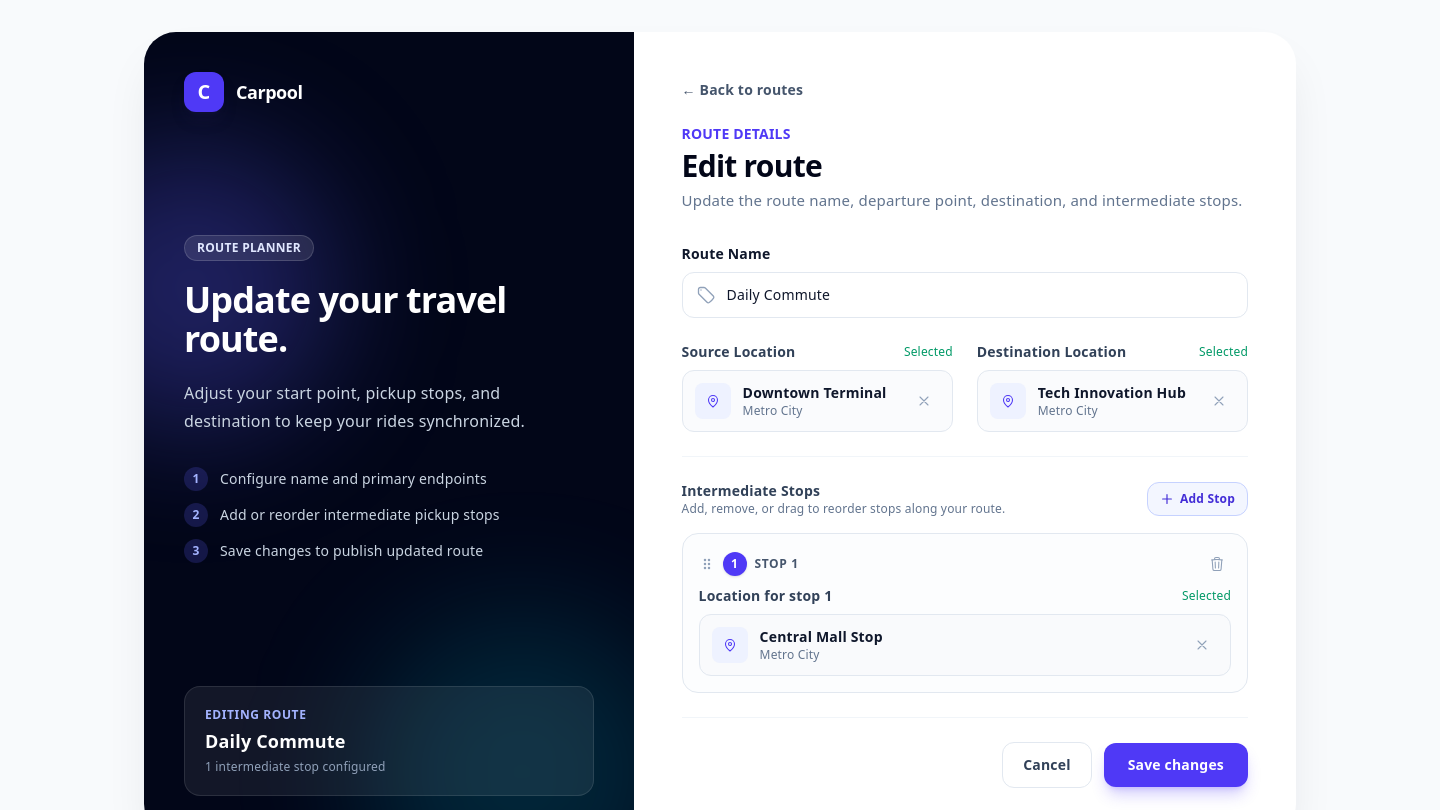
it: EditRoutePage › submits route update via PATCH and displays success modal
Step 1. Replace the text in the field showing "Daily Commute" with "Updated Morning Commute" → (965, 295), box [682,272,1248,318]
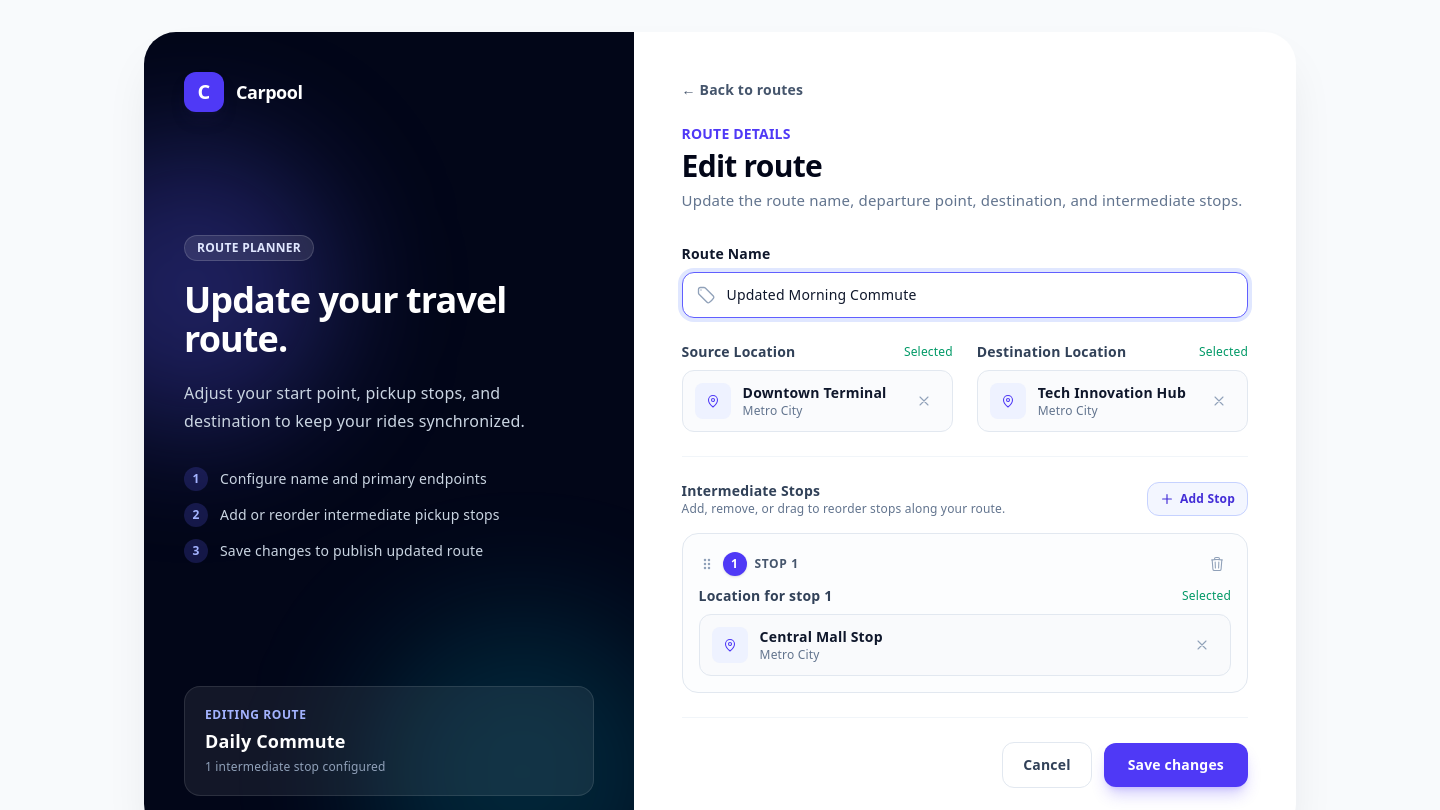
Step 2. Click the button "Save changes" → (1176, 765), box [1104,743,1248,787]
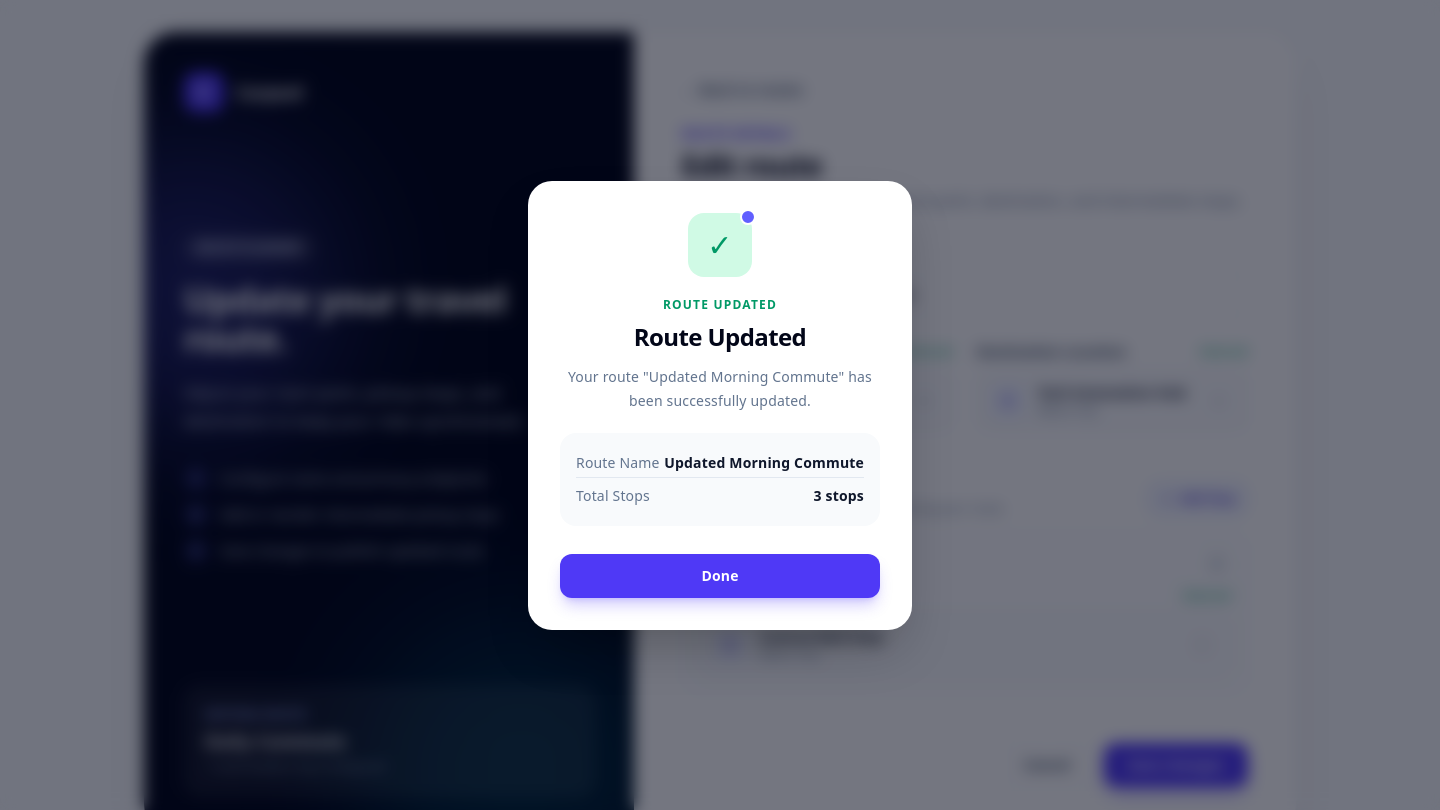
Check: the text "has been successfully updated" is shown, box [568,366,872,410]
